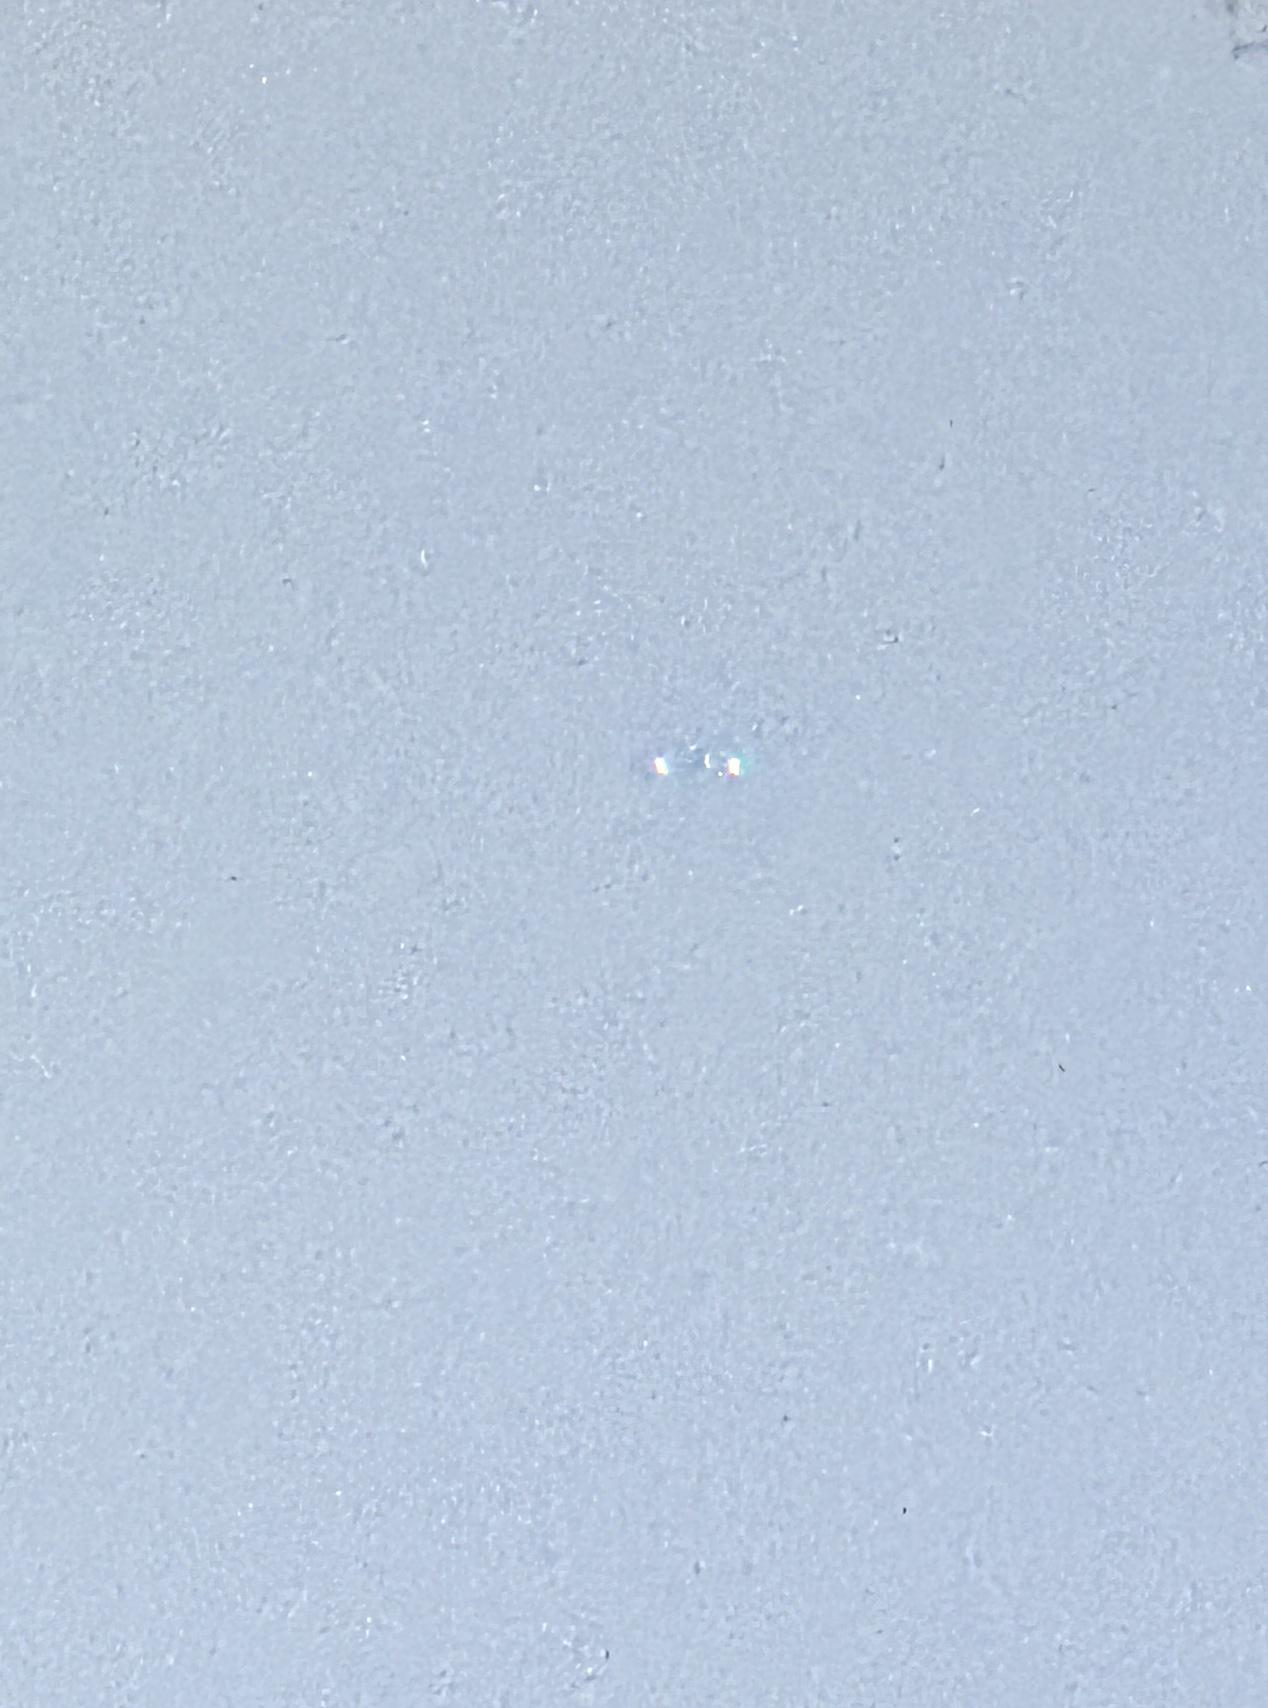Plane: (598, 719, 792, 811)
